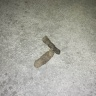Dog: (34, 35, 60, 68)
